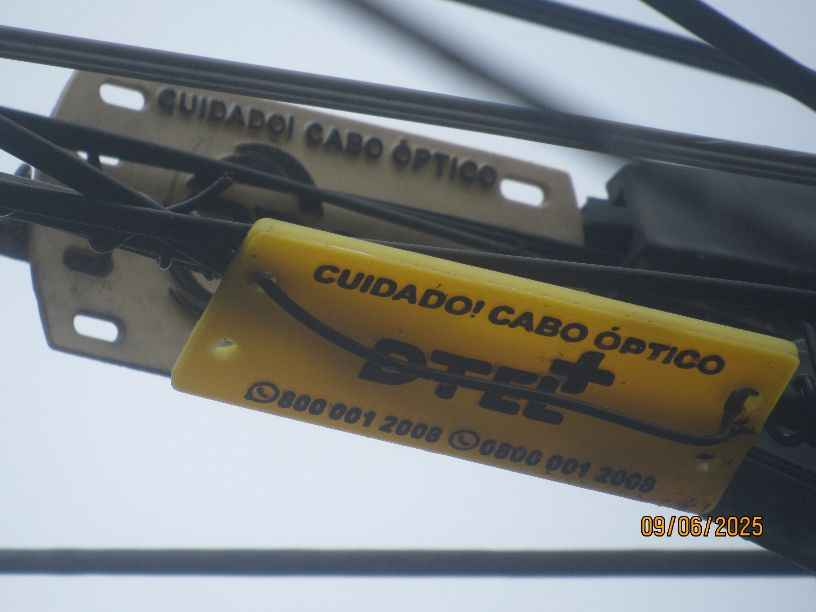fibra_optica: (169, 194, 805, 551), (36, 56, 581, 381)
